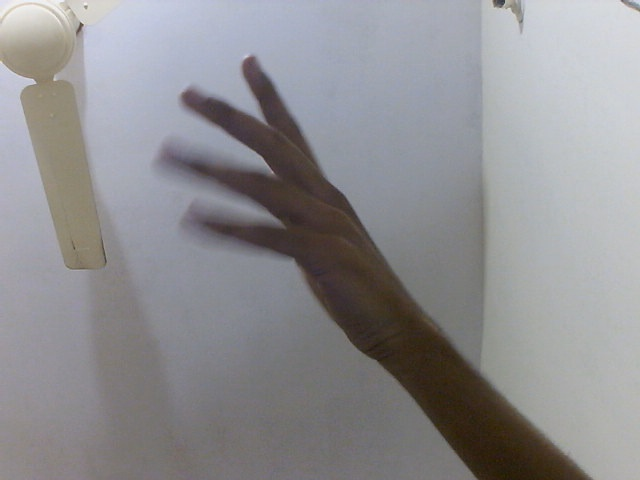hand: (151, 47, 433, 379)
